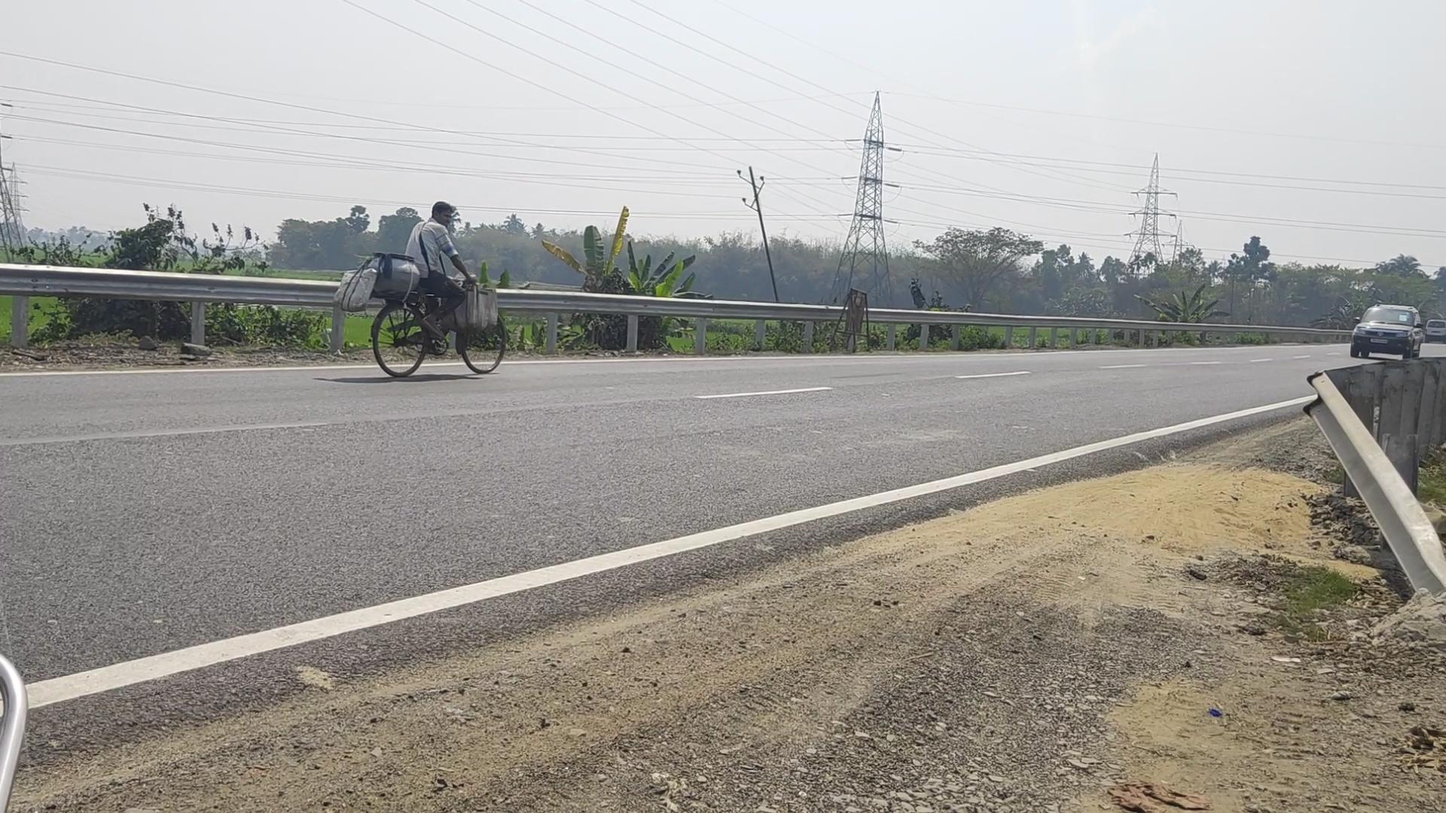bike: (359, 202, 507, 378)
car: (1350, 303, 1423, 361), (1425, 319, 1446, 344)
